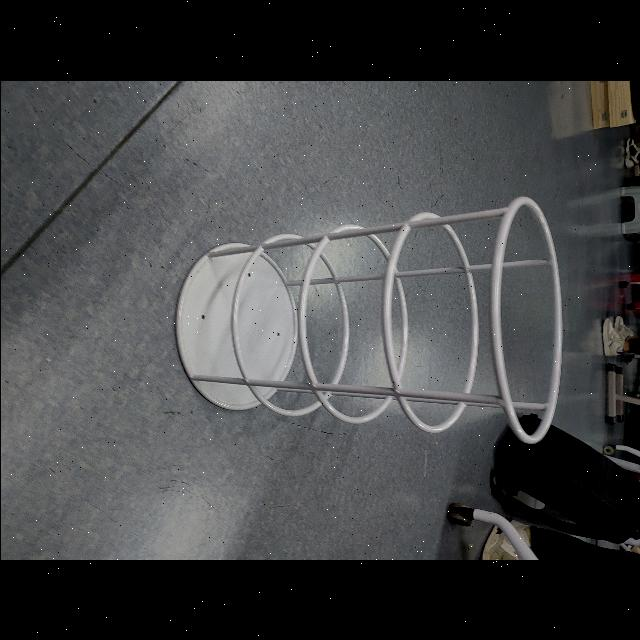S: (170, 190, 570, 448)
